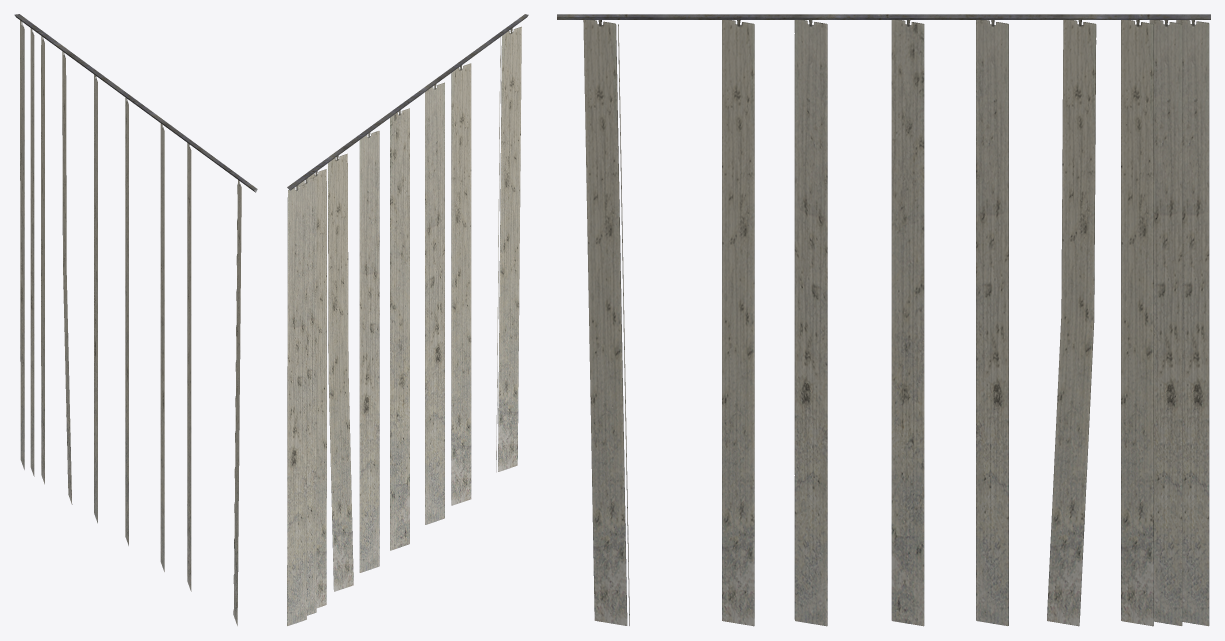
The model's file is M_Home_Garden_Blinds02.fbx.
3 renders of one model, left to right at view 1: azimuth 30°, elevation 25°; view 2: azimuth 150°, elevation 25°; view 3: azimuth 270°, elevation 25°, orthographic. The views are drawn at different scales.
Visible parts, largest first — view 1: M_Home_Garden_Blinds02; view 2: M_Home_Garden_Blinds02; view 3: M_Home_Garden_Blinds02.
Part boxes in pixels (box(x1,y1,x2,y2)): M_Home_Garden_Blinds02: box(14, 14, 257, 625); M_Home_Garden_Blinds02: box(287, 14, 528, 625); M_Home_Garden_Blinds02: box(557, 14, 1210, 626).
Size of the model in its own units: 3.79 by 184 by 179.
